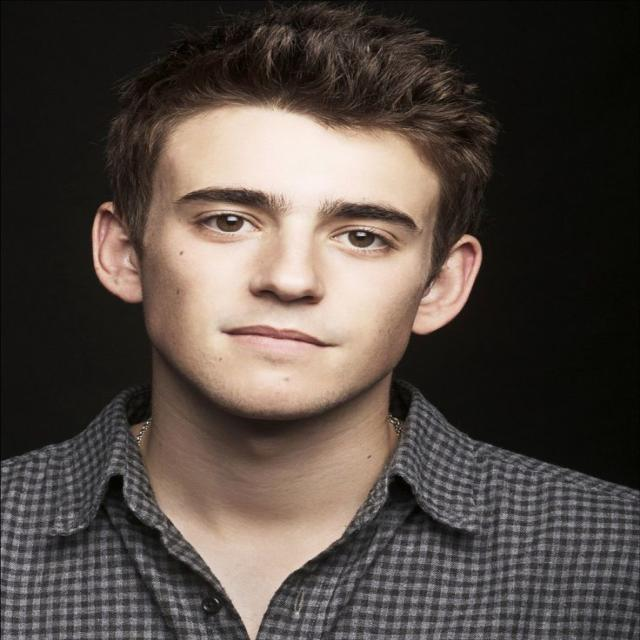front: (163, 160, 426, 394)
